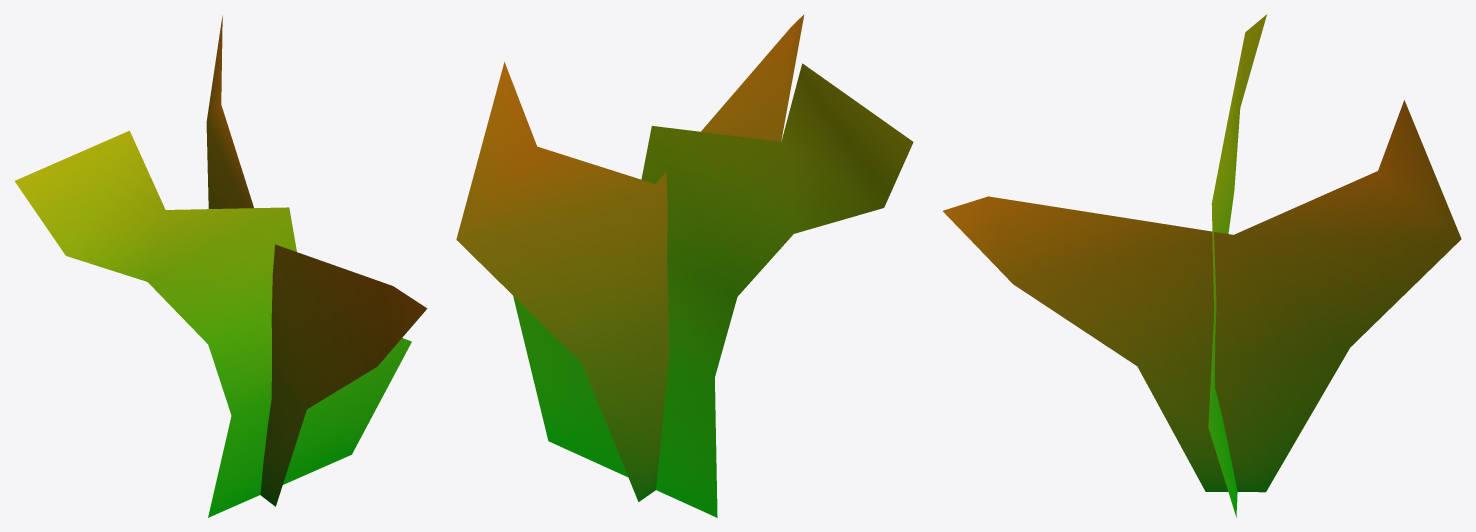
Rendered from Var11Hi33.fbx.
The picture shows the model from 3 angles, left to right: view 1: azimuth 30°, elevation 25°; view 2: azimuth 150°, elevation 25°; view 3: azimuth 270°, elevation 25°; orthographic projection. The views are drawn at different scales.
Visible parts, largest first — view 1: bend1; view 2: bend1; view 3: bend1.
Boxes of the visible parts, x1,y1,x2,y2 form: bend1: (14, 15, 427, 517); bend1: (456, 14, 913, 517); bend1: (943, 14, 1461, 517).
Bounding box in the file's own units: 1.35 × 1.47 × 1.63.
